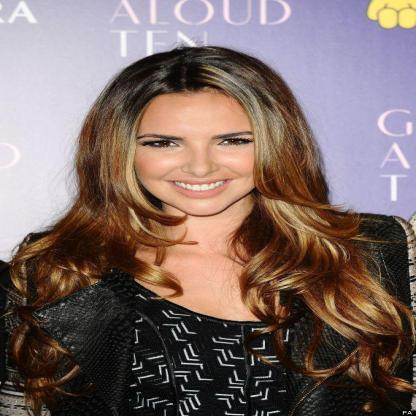long-hair: (51, 216, 353, 256)
